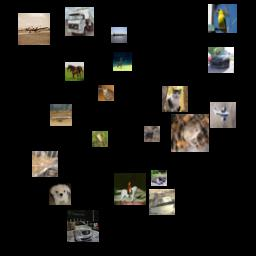airplane: (18, 13, 50, 45), (210, 102, 236, 128), (50, 104, 72, 126)
automobile: (67, 210, 99, 242), (208, 47, 234, 73)
bird: (208, 4, 237, 33), (92, 131, 108, 147)
cat: (32, 151, 58, 177), (162, 86, 188, 112), (151, 170, 167, 186), (98, 85, 114, 101)
deer: (113, 52, 132, 71), (144, 126, 160, 142)
dog: (49, 183, 71, 205)
frog: (171, 114, 209, 152)
ship: (149, 189, 175, 215), (111, 27, 127, 43)
truck: (65, 7, 94, 36)
